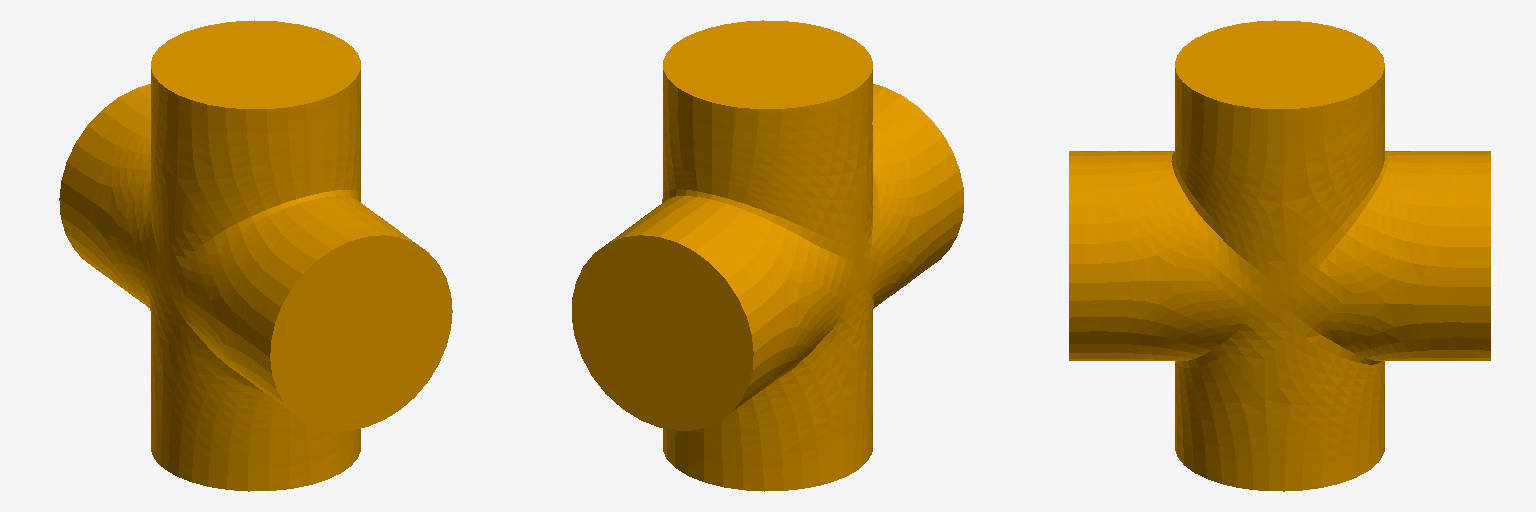
URDF robot description (object):
<robot name="object">
  <link name="object">
    <visual>
      <origin xyz="0 0 0"/>
      <geometry>
        <mesh filename="visual.obj" scale="1 1 1"/>
      </geometry>
    </visual>
    <collision>
      <origin xyz="0 0 0"/>
      <geometry>
        <mesh filename="visual.obj" scale="1 1 1"/>
      </geometry>
    </collision>
    <inertial>
      <mass value="0.05"/>
      <inertia ixx="5.359173565838945e-05" iyy="3.432067173497682e-05" izz="3.431682511524726e-05" ixy="2.026290724750113e-09" ixz="-8.189121306033335e-10" iyz="2.502902913920795e-09"/>
    </inertial>
  </link>
</robot>

--- What the picture shows (computed from the rendered views, not written in the file) ---
The picture shows the robot from 3 angles, left to right: view 1: azimuth 30°, elevation 25°; view 2: azimuth 150°, elevation 25°; view 3: azimuth 270°, elevation 25°; orthographic projection.
Model object with 1 links and 0 joints (none), rooted at object, posed every joint at zero.
Links seen in each view (by area): view 1: object; view 2: object; view 3: object.
Link boxes in pixels (x1,y1,x2,y2): object: (59,20,452,491); object: (572,20,963,491); object: (1069,20,1490,491).
Size in the robot's own frame: 0.048 by 0.096 by 0.096 metres.
1 mesh visuals loaded from 1 distinct referenced files (1 OBJ).
